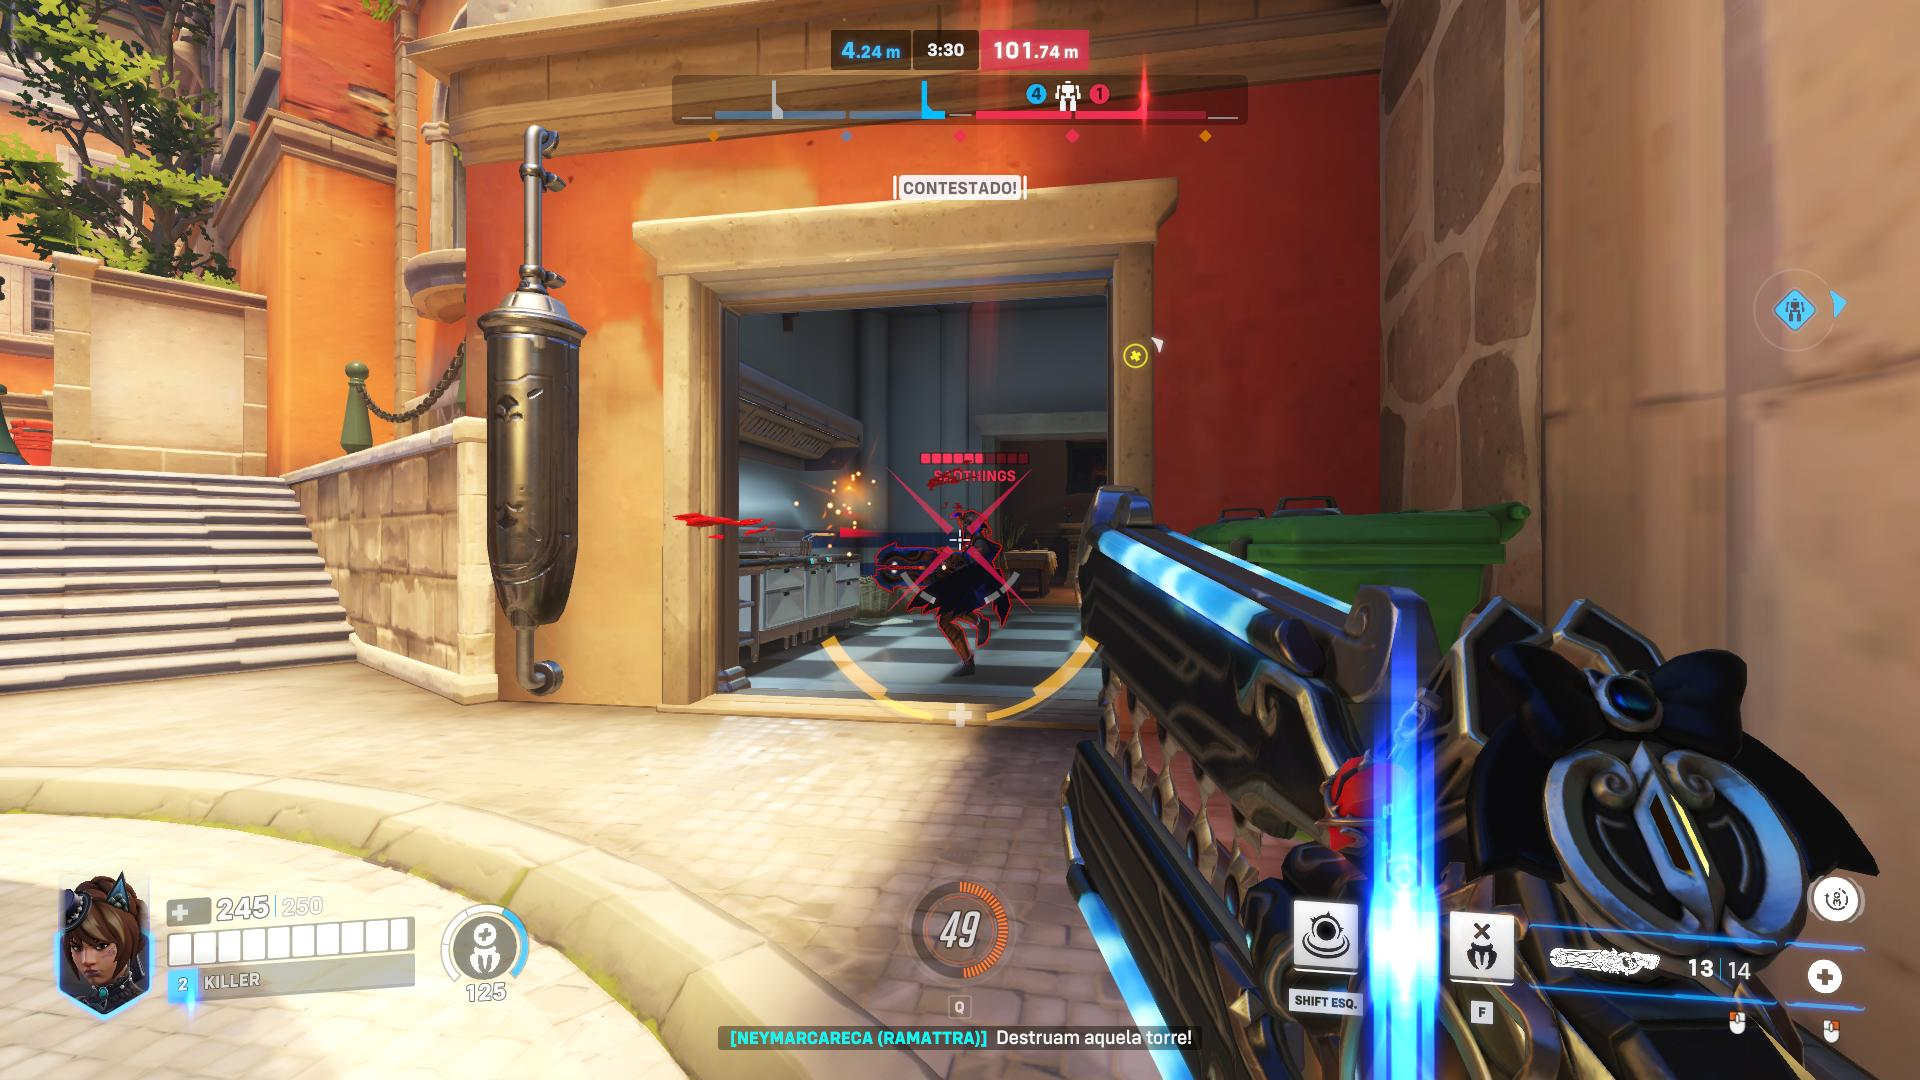enemy: (938, 509, 994, 657)
